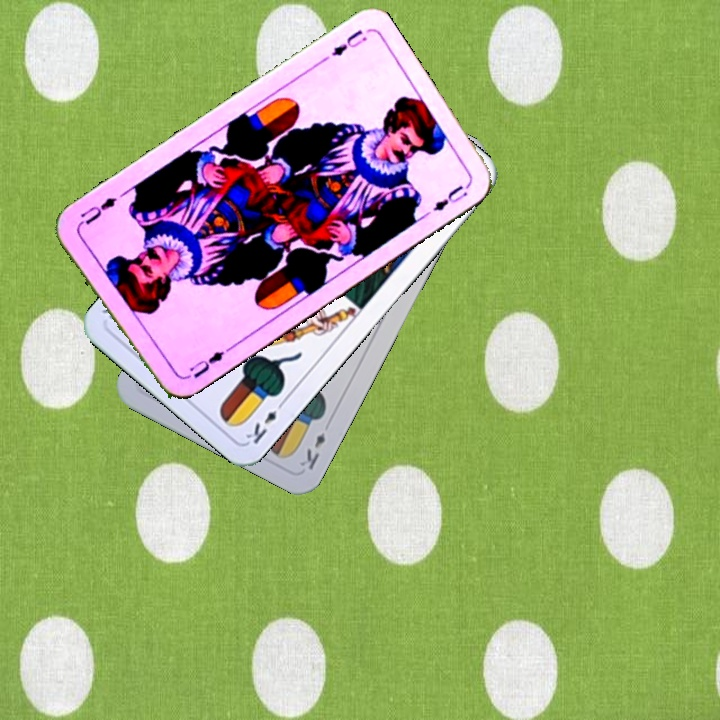EK: (241, 395, 289, 447), (296, 428, 328, 473)
EU: (178, 344, 232, 382), (327, 25, 370, 59)
